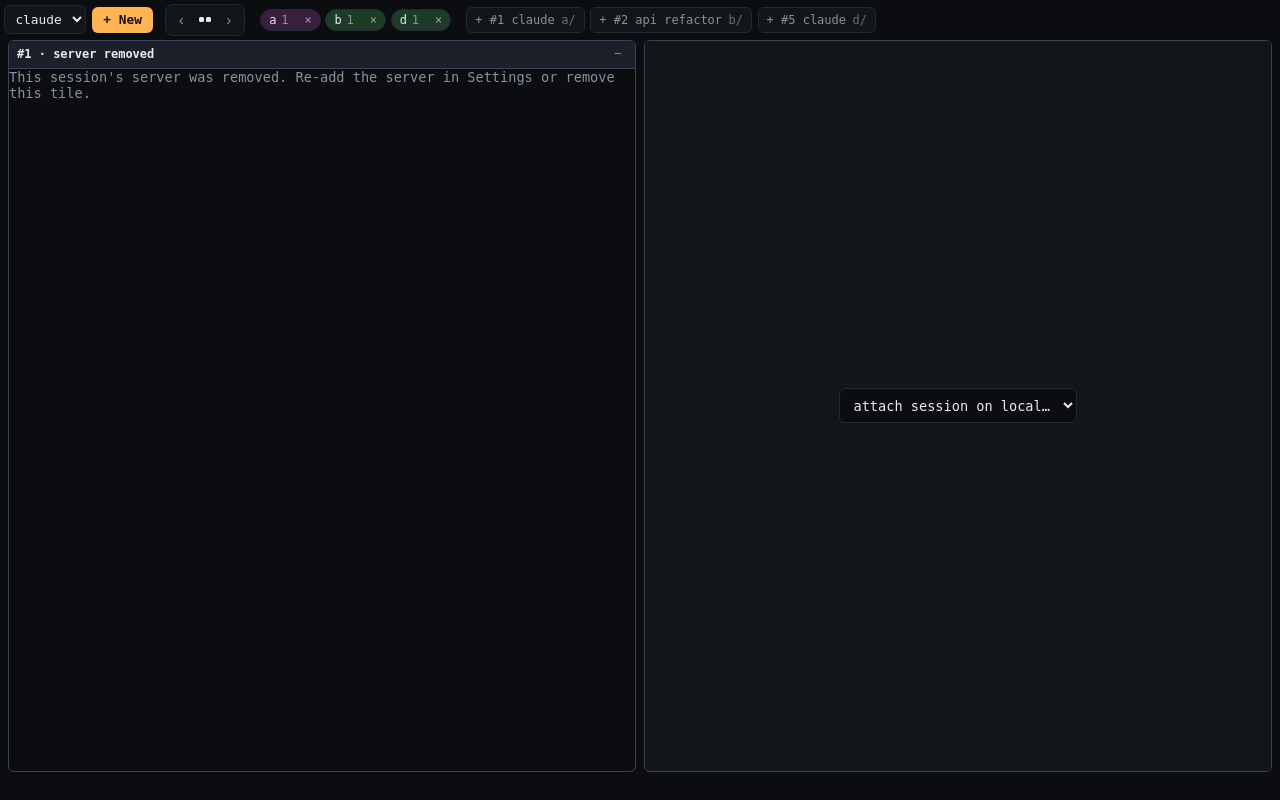
it: tile for a removed server shows a non-interactive state, never the local daemon
Expected: the text "#1 · server removed" is shown, [17,47,154,61]
Removing the orphaned tile from the grid is still allowed.
Click the button named "remove session 1 from grid" at (618, 54), box [608,45,627,64]
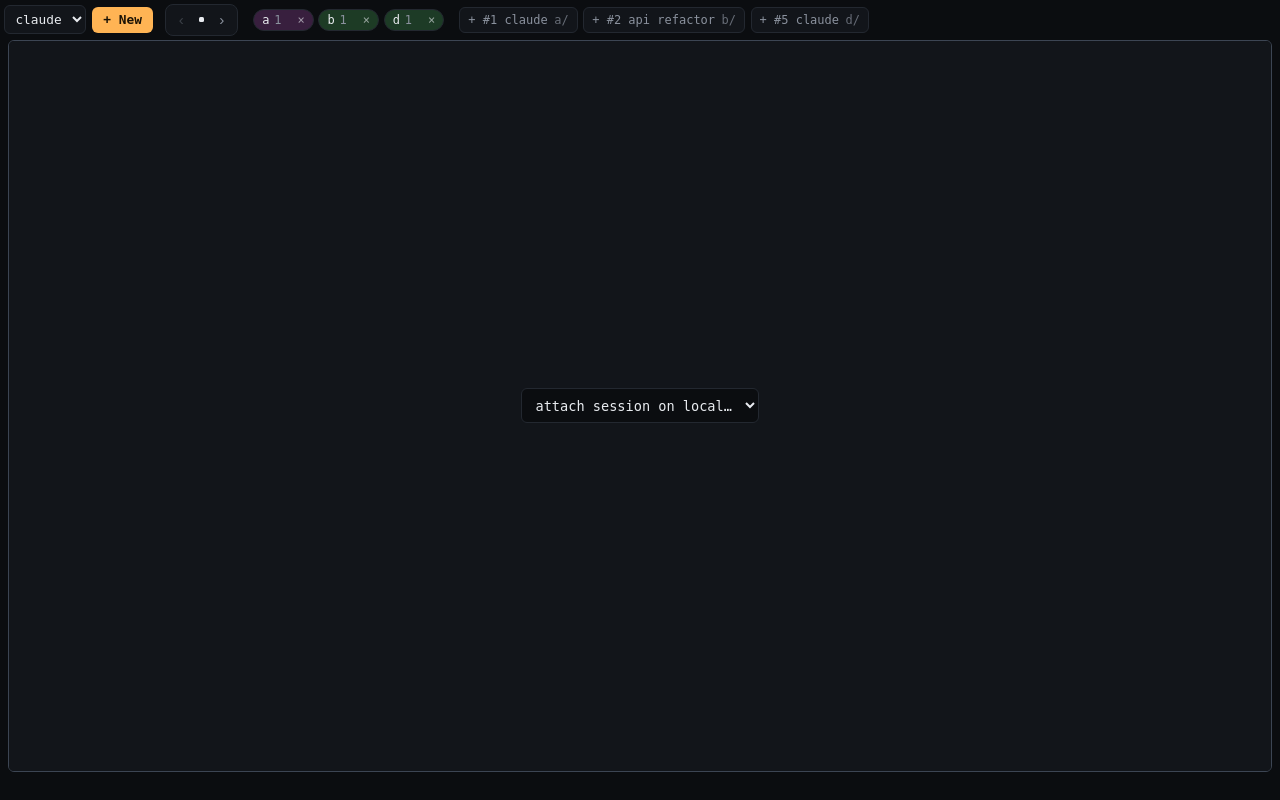
Result: the text "server removed" is gone
